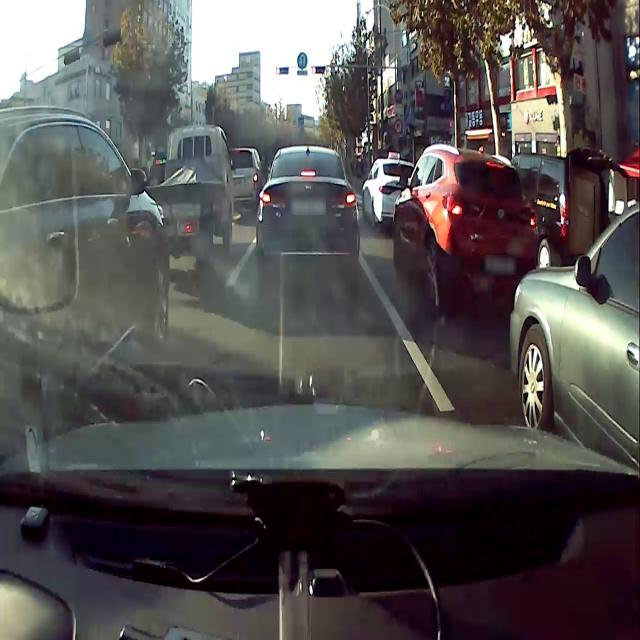Red Light: (276, 66, 280, 75), (312, 66, 316, 75)
